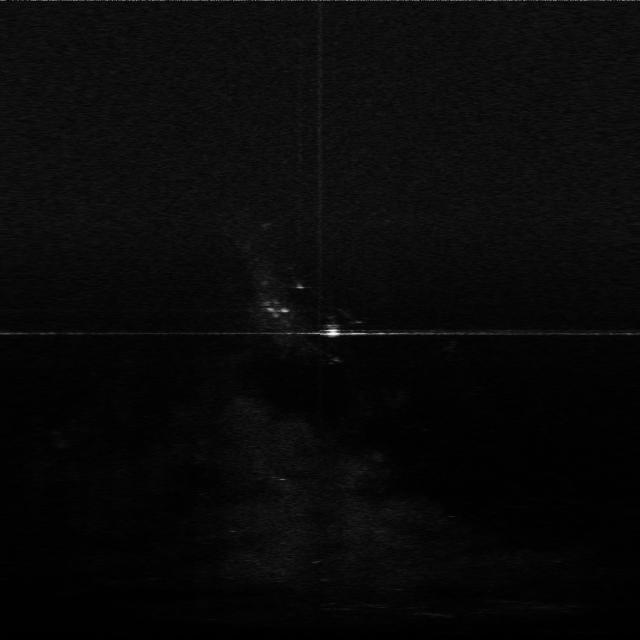rov: (322, 323, 344, 340)
